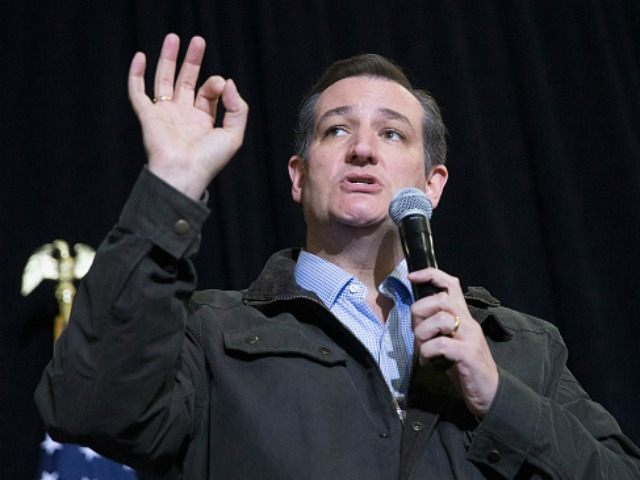oksign: (128, 31, 251, 176)
